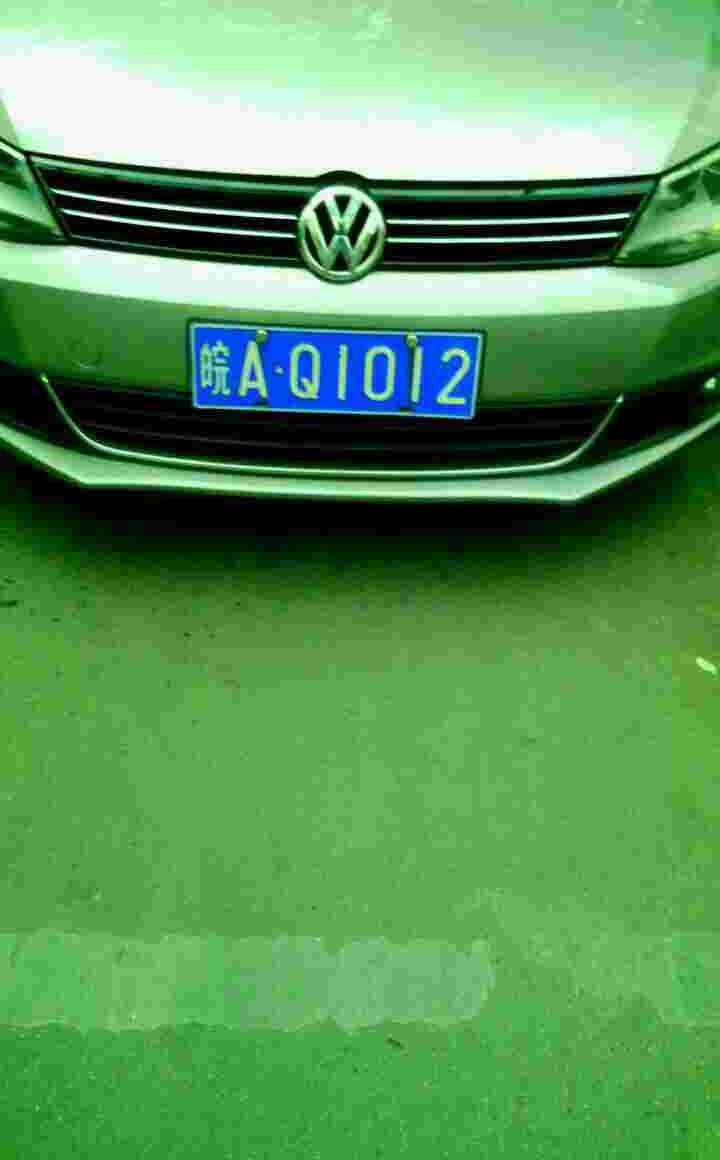license_plate: (193, 323, 493, 423)
